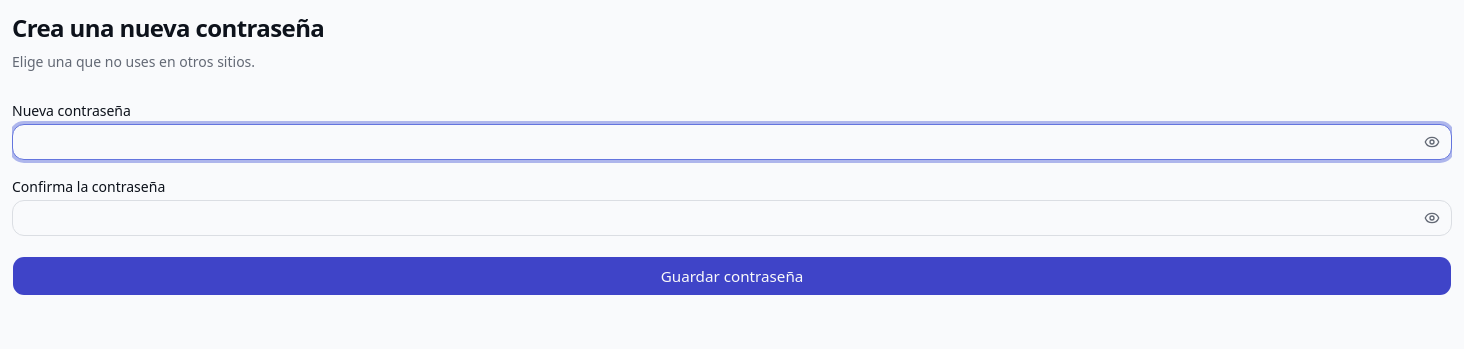
Test: ResetPasswordPage › reads the token once and wipes it from the address bar
The width and height of the screenshot is (1464, 349).
In the password field labelled "Nueva contraseña": (732, 142) x1=12 y1=124 x2=1452 y2=160, type "otra frase muy segura"
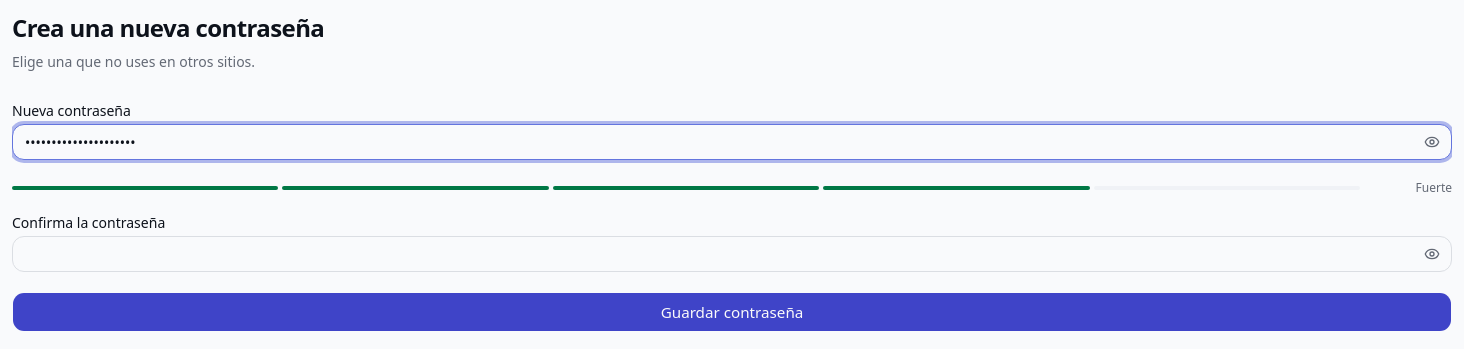
In the password field labelled "Confirma la contraseña": (732, 254) x1=12 y1=236 x2=1452 y2=272, type "otra frase muy segura"
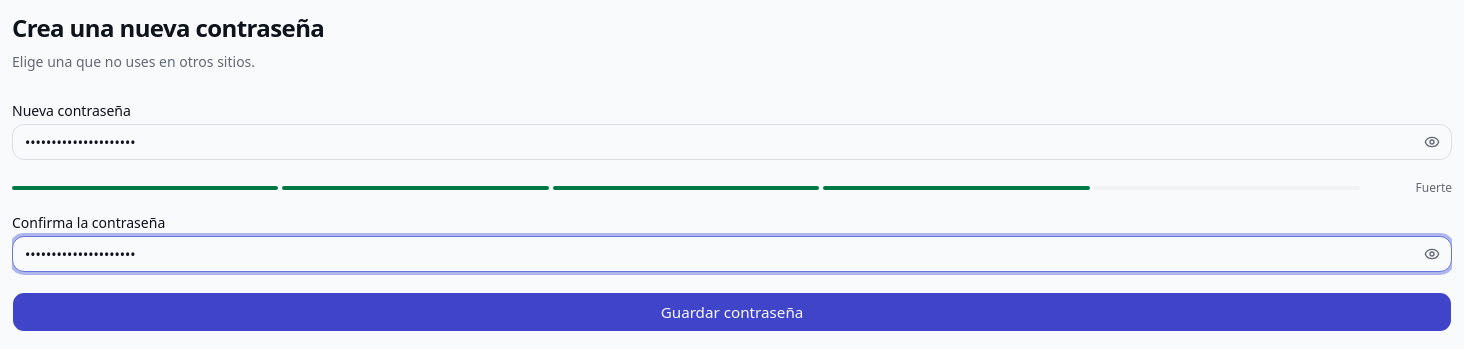
Click the button "Guardar contraseña": (732, 312) x1=12 y1=292 x2=1452 y2=332
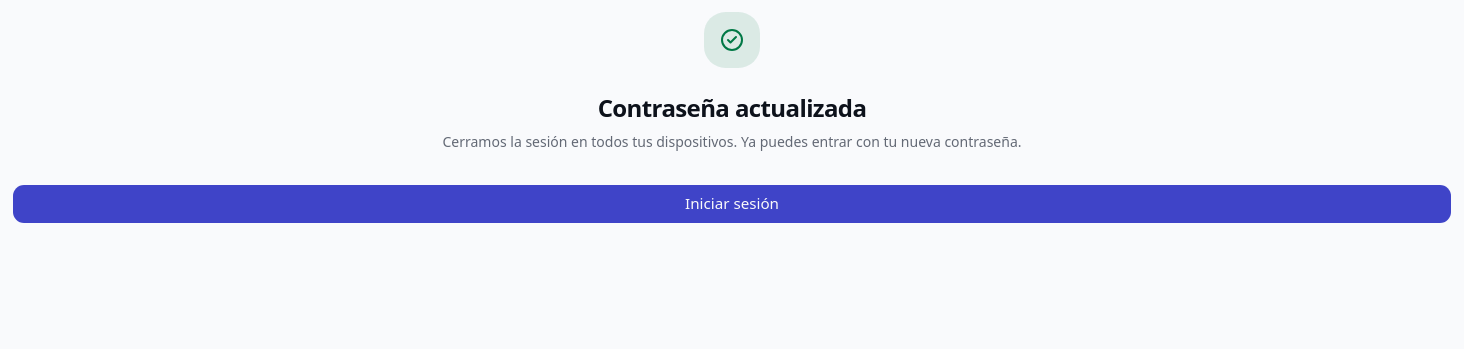
Expected: the heading "Contraseña actualizada" is shown, x1=598 y1=91 x2=866 y2=124
